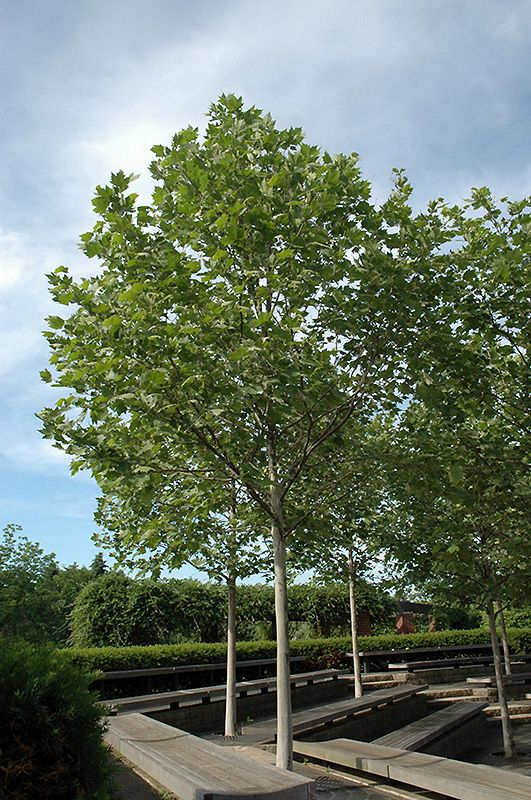tree: (33, 89, 388, 768)
